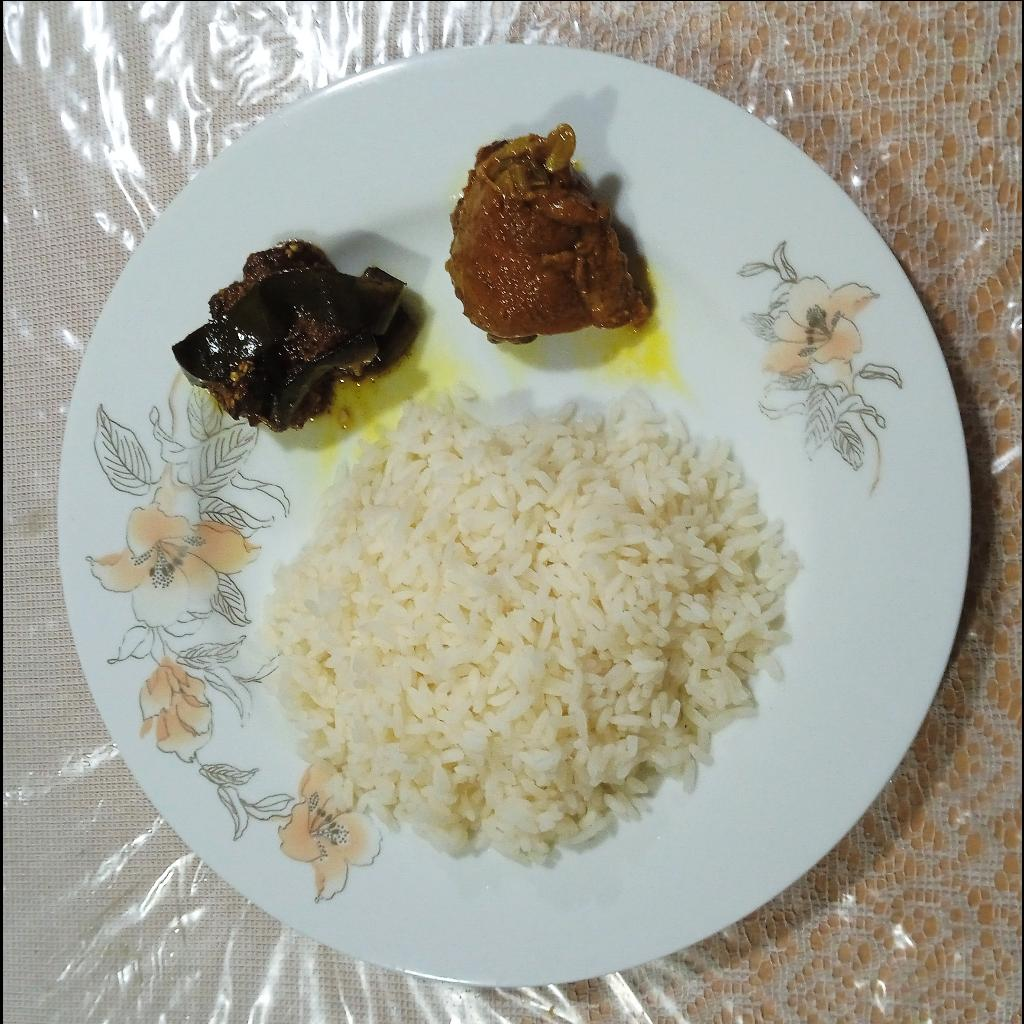begun-vaji: (166, 235, 422, 435)
chicken: (443, 122, 653, 347)
rice: (261, 381, 804, 866)
